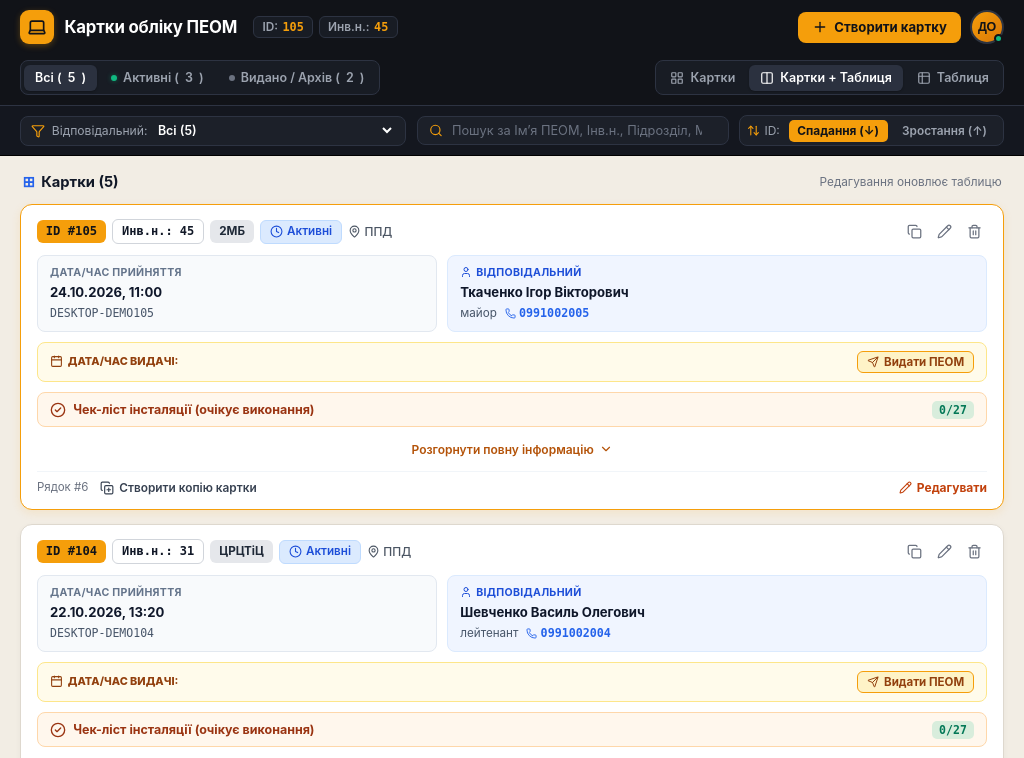
it: Provisioning Accounting Workspace — Картки обліку ПЕОМ + Таблиця (AC-001, AC-004..AC-009) › opens the 27-step Перевірка інсталяції modal from a card or table, toggles steps, and updates Column AA (AC-007)
The width and height of the screenshot is (1024, 758).
Click the button with aria-label "Чек-ліст для DESKTOP-DEMO104".
click(194, 730)  # box [37,712,987,747]
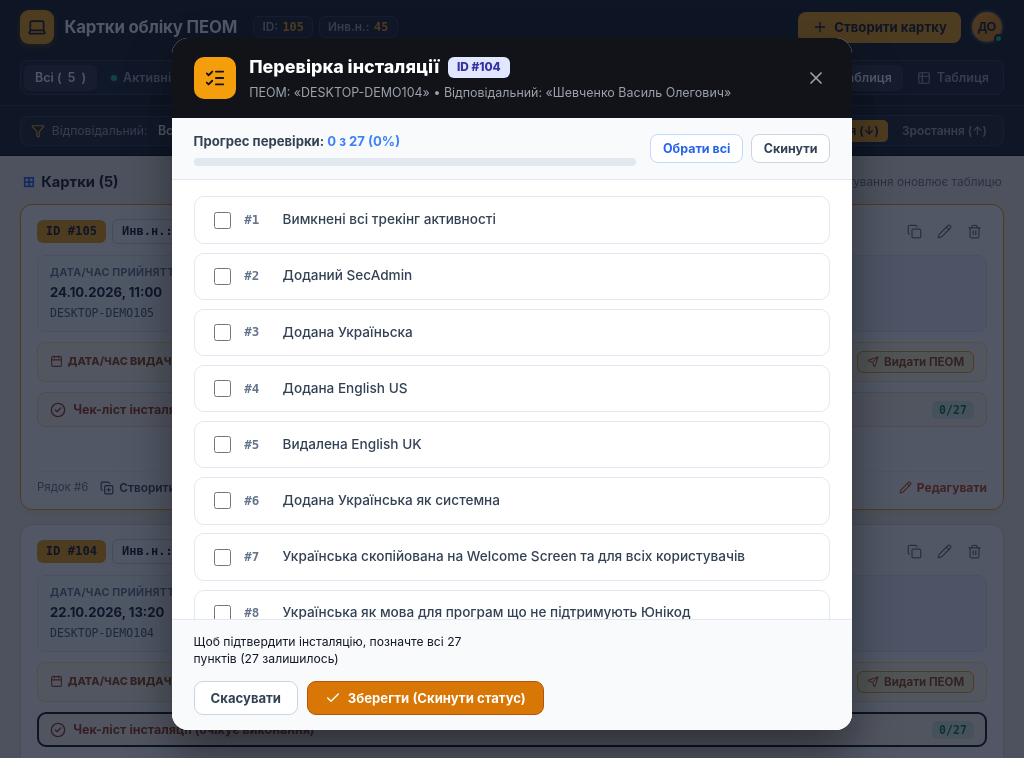
Expected: the text "ID #104" is shown, [448,57,510,78]
Expected: the text "ПЕОМ: «DESKTOP-DEMO104» • Відповідальний: «Шевченко Василь Олегович»" is shown, [249,84,731,102]
Expected: the text "Вимкнені всі трекінг активності" is shown, [283,210,496,230]
Click the text "Доданий SecAdmin".
click(347, 276)  # box [283,266,412,286]
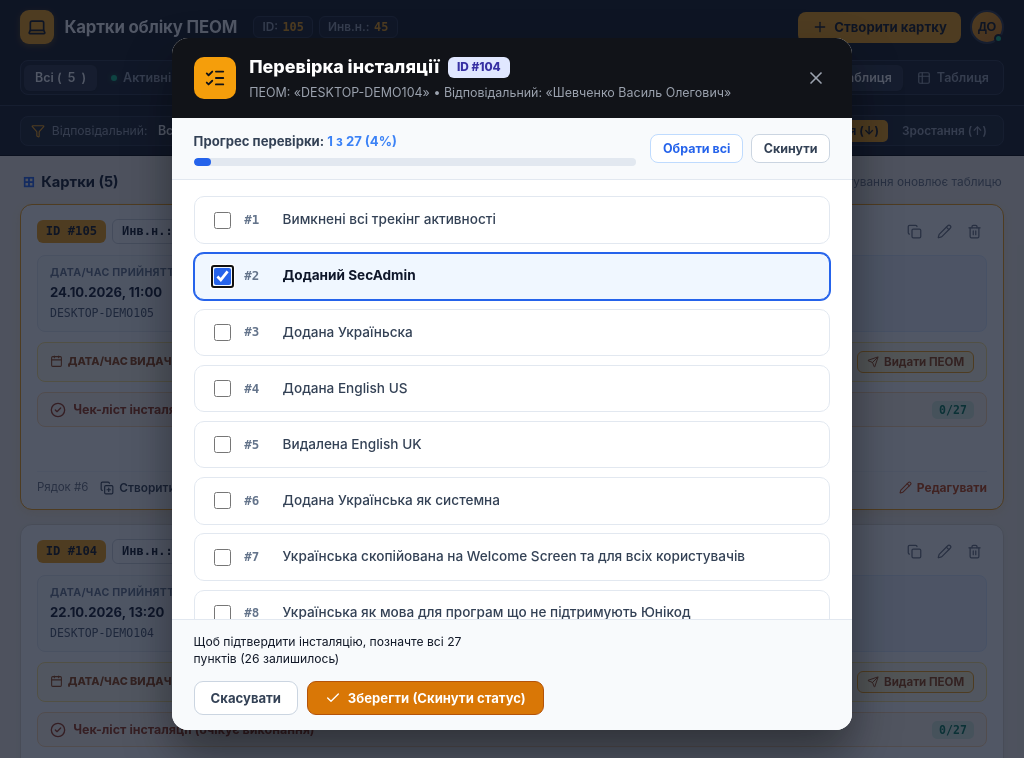
Expected: the button "Зберегти (Скинути статус)" is shown, [307,681,544,715]
Expected: the text with test id "checklist-progress" reads "1 з 27 (4%)", [327,133,397,149]
Expected: the text "Щоб підтвердити інсталяцію, позначте всі 27 пунктів (26 залишилось)" is shown, [194,634,504,667]
Click the button "Скинути".
click(791, 149)  # box [751,134,830,163]
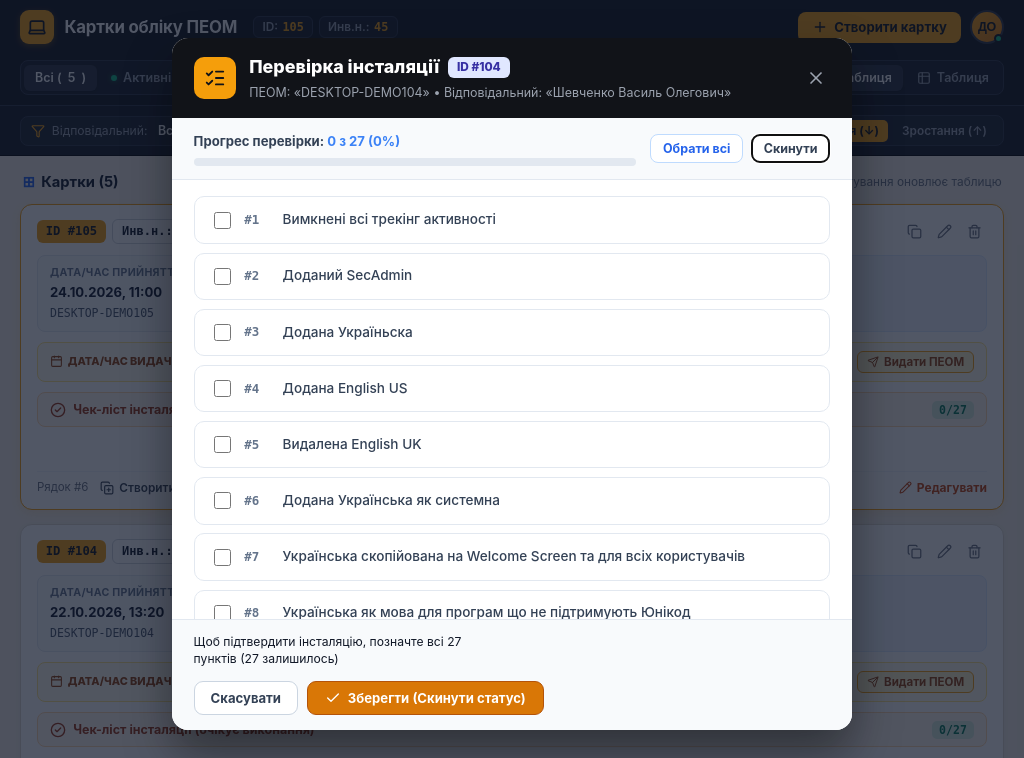
Expected: the text with test id "checklist-progress" reads "0 з 27 (0%)", [327,133,400,149]
Click the button "Обрати всі".
click(697, 149)  # box [650,134,744,163]
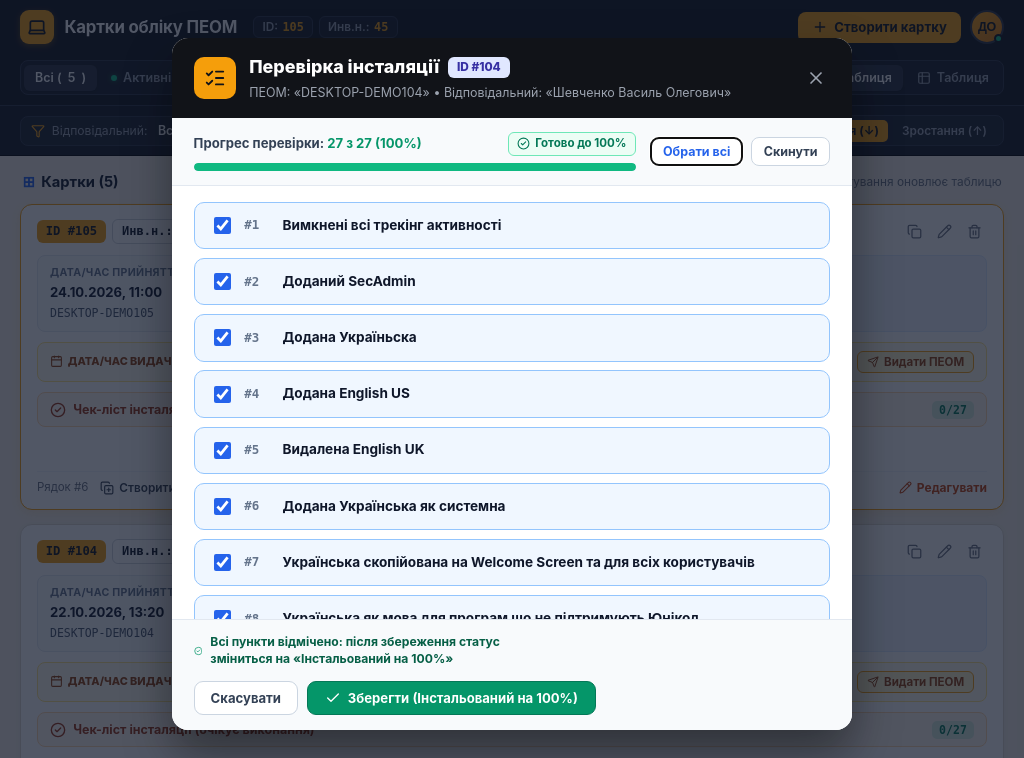
Expected: the text with test id "checklist-progress" reads "27 з 27 (100%)", [327,135,422,151]
Expected: the text "Готово до 100%" is shown, [535,136,627,152]
Click the button "Зберегти (Інстальований на 100%)".
click(452, 698)  # box [307,681,596,715]
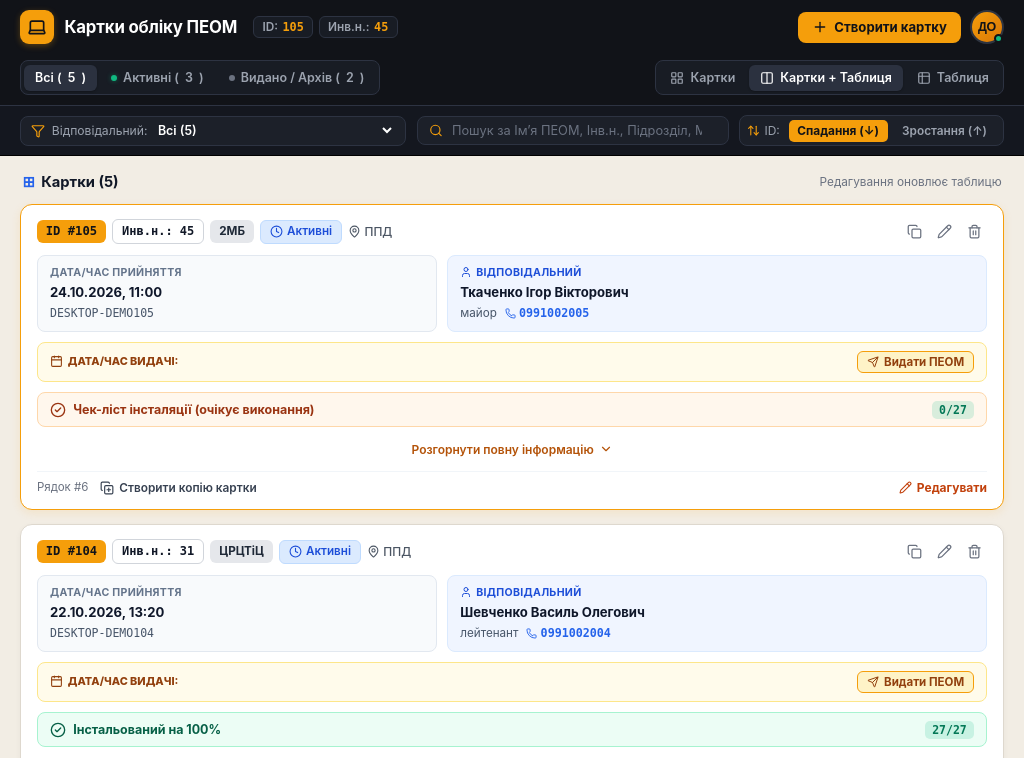
Expected: the heading "Перевірка інсталяції" is gone
